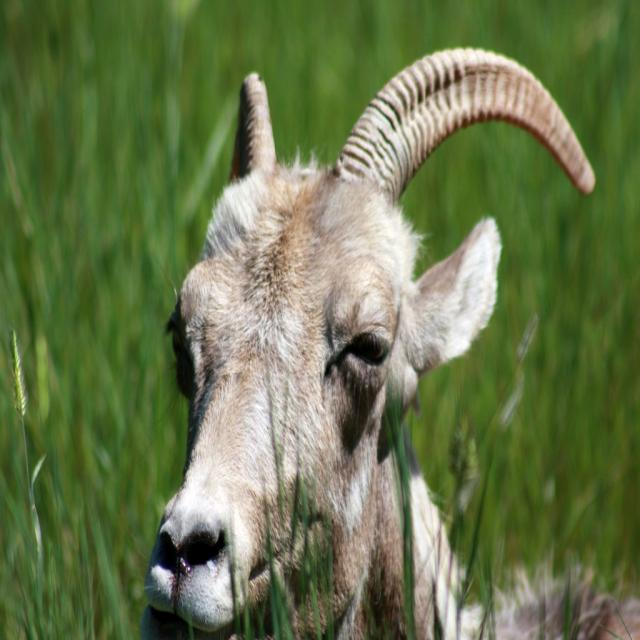Goat: (124, 45, 639, 640)
